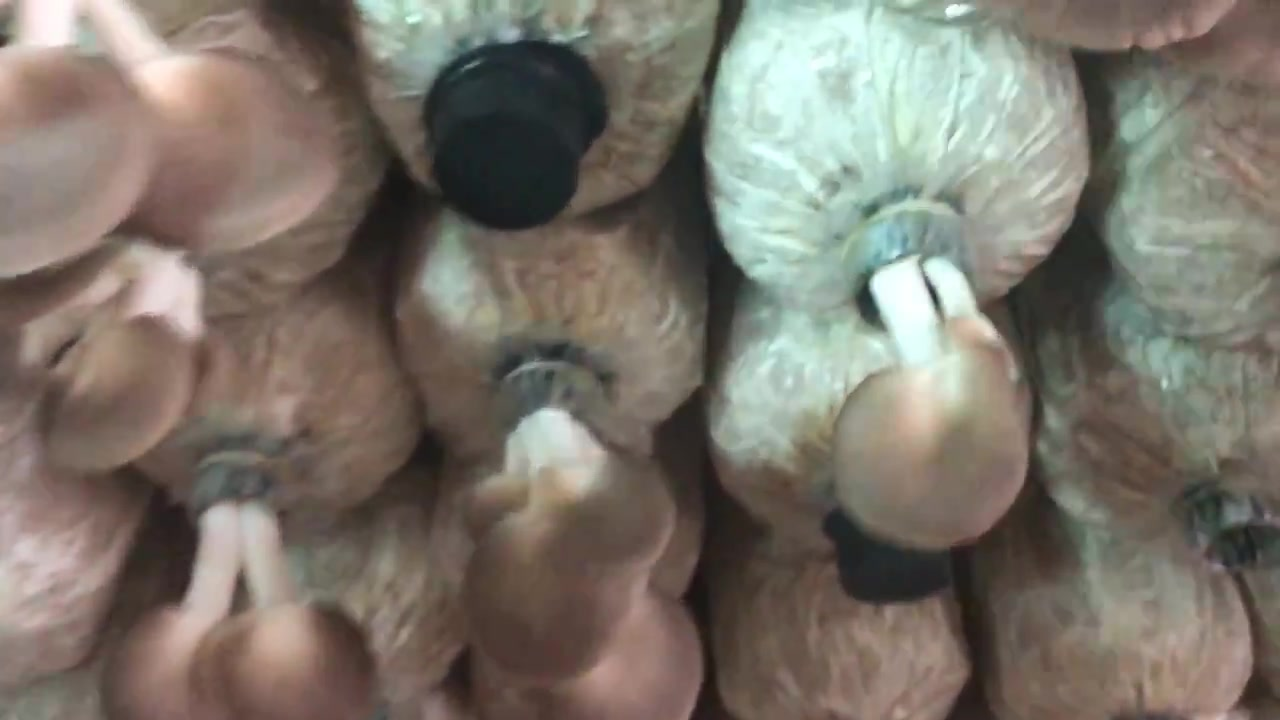nam: (2, 1, 332, 271), (462, 364, 702, 720), (99, 456, 371, 720), (830, 205, 1030, 555), (14, 248, 232, 471)
